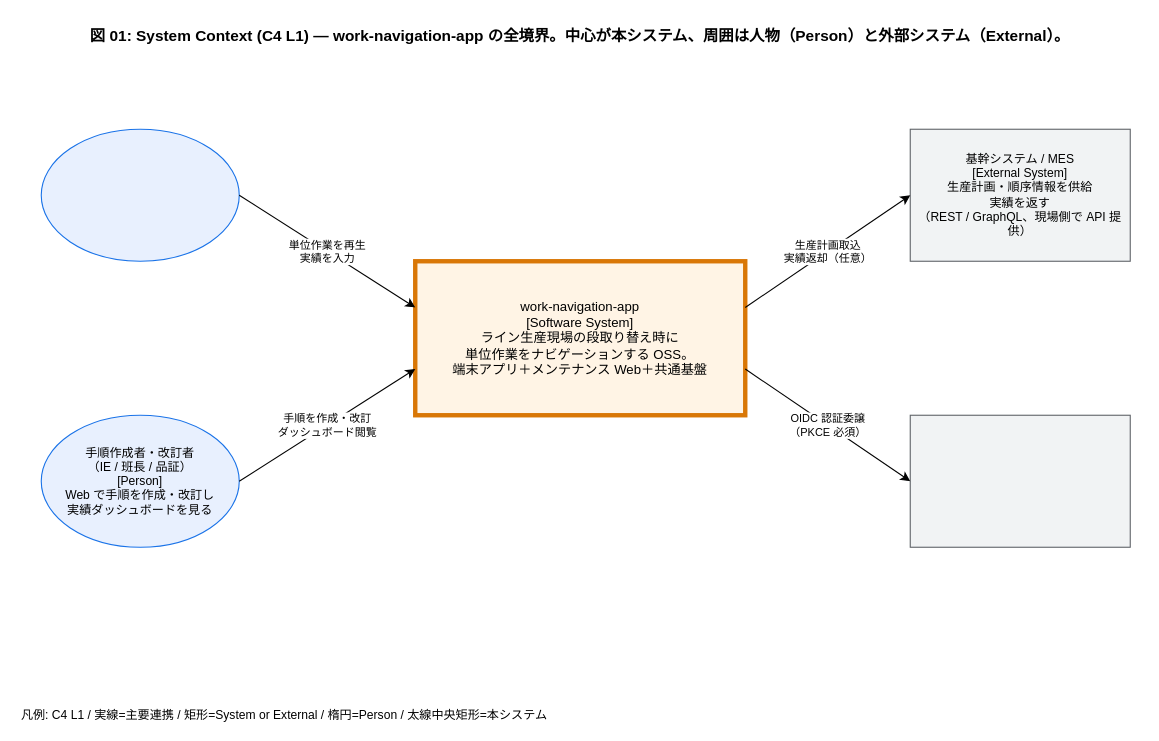
The diagram is 1159 pixels wide and 741 high, and some of its shapes have lost their labels. The centre of each missing label's shape, as x and y in pixels:
"Keycloak [External System] 認証・認可（OIDC） ID／パスワード ADR-0011 で確定" belongs at pixel 1019 480.
"直接作業者 （オペレータ） [Person] 手順を端末で再生し 実績を入力する" belongs at pixel 139 194.
